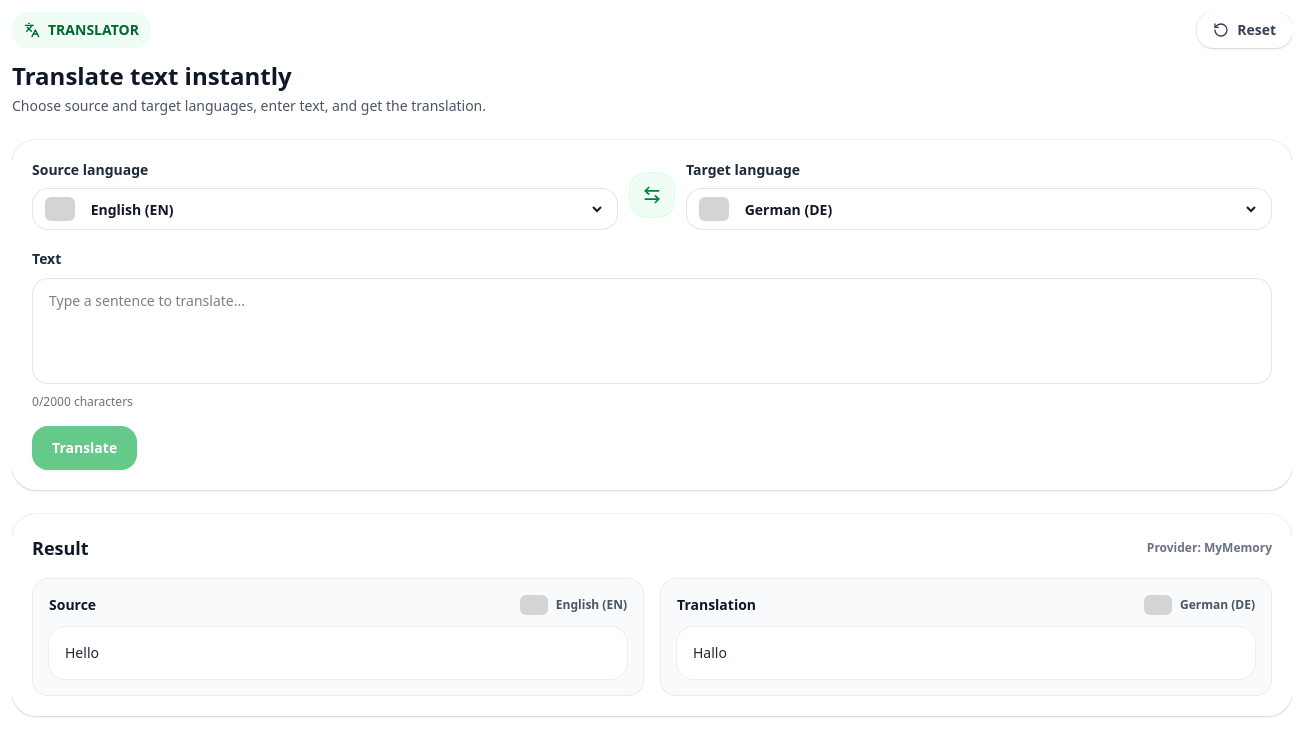
Test: Translate page › Swap copies previous translation target text into textarea when result exists
This screenshot has width=1304, height=732.
Expected: the text box with placeholder "Type a sentence to translate..." is empty, [32,278,1272,384]
Click the button titled "Swap languages" at point(652, 195), box [630,173,674,217]
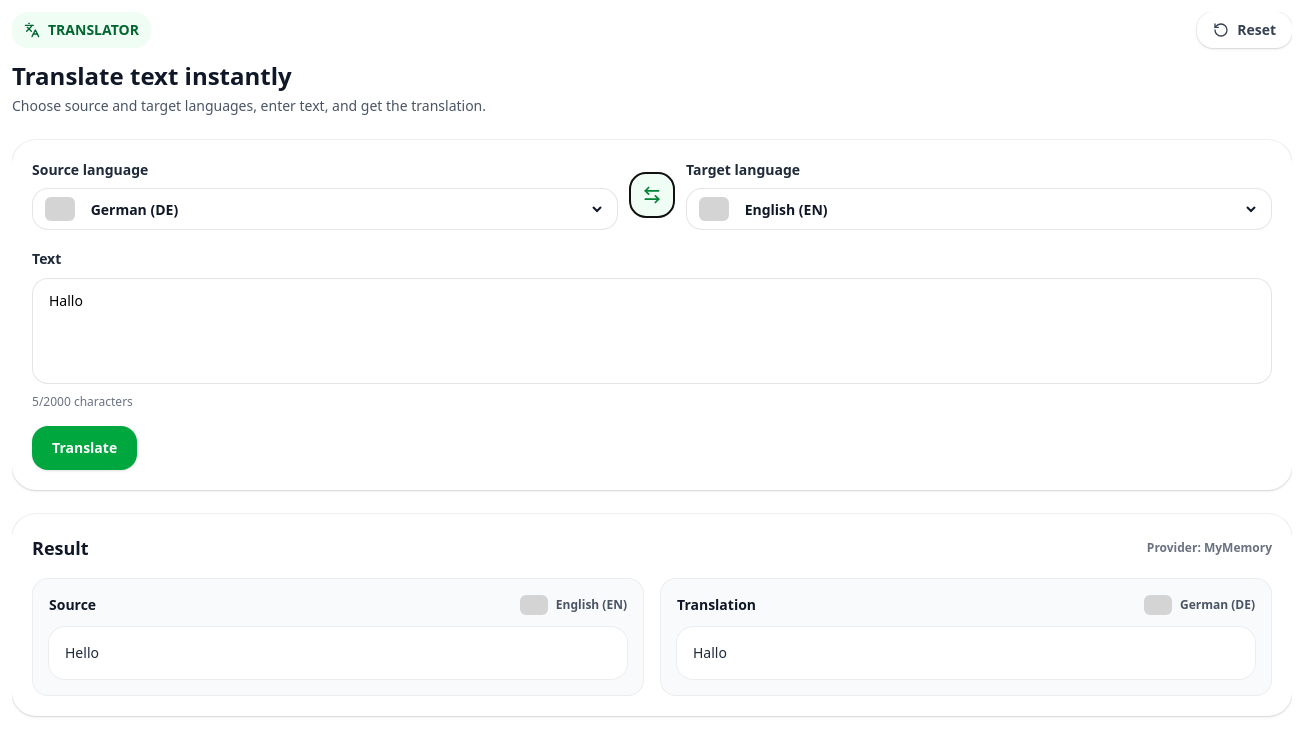
Now the text box with placeholder "Type a sentence to translate..." holds "Hallo", box [32,278,1272,384]
